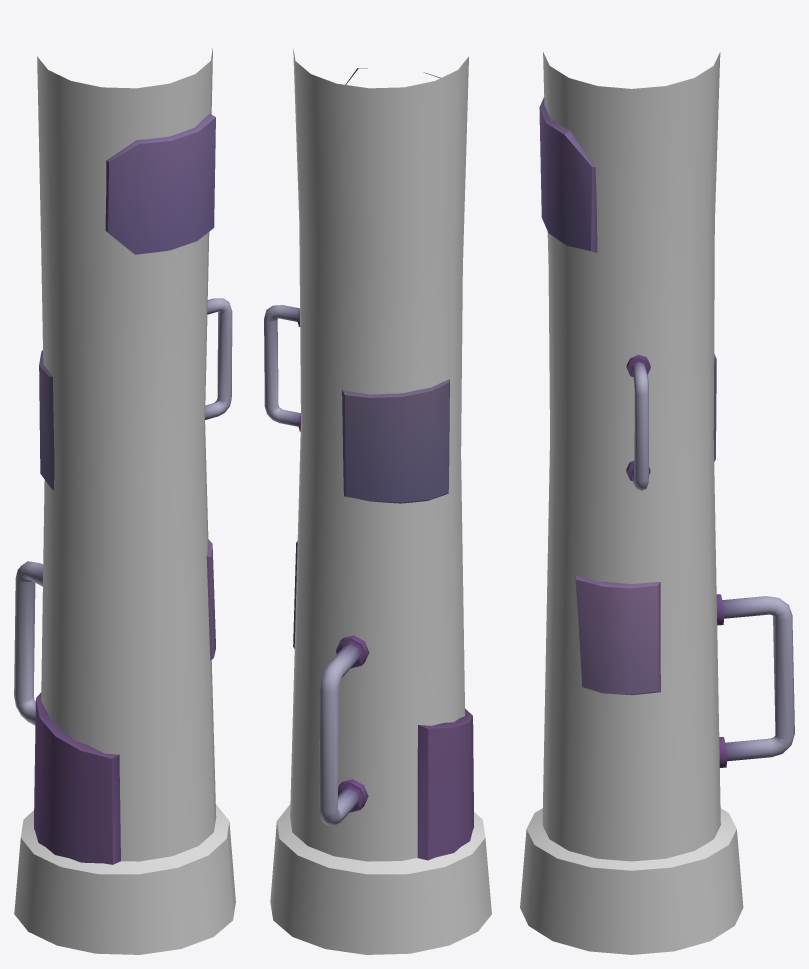
File: obstacle-huge_steel_pillar.glb
3 renders of one model, left to right at view 1: azimuth 30°, elevation 25°; view 2: azimuth 150°, elevation 25°; view 3: azimuth 270°, elevation 25°, orthographic.
Visible parts, largest first — view 1: obstacle-huge_steel_pillar; view 2: obstacle-huge_steel_pillar; view 3: obstacle-huge_steel_pillar.
Part boxes in pixels (x1=…): obstacle-huge_steel_pillar: x1=14, y1=48, x2=235, y2=954; obstacle-huge_steel_pillar: x1=264, y1=48, x2=491, y2=954; obstacle-huge_steel_pillar: x1=520, y1=52, x2=794, y2=954.
Bounding box in the file's own units: 6.25 × 24.56 × 7.15.
